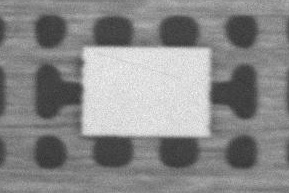DIE_CRACK: (145, 35, 274, 53)
